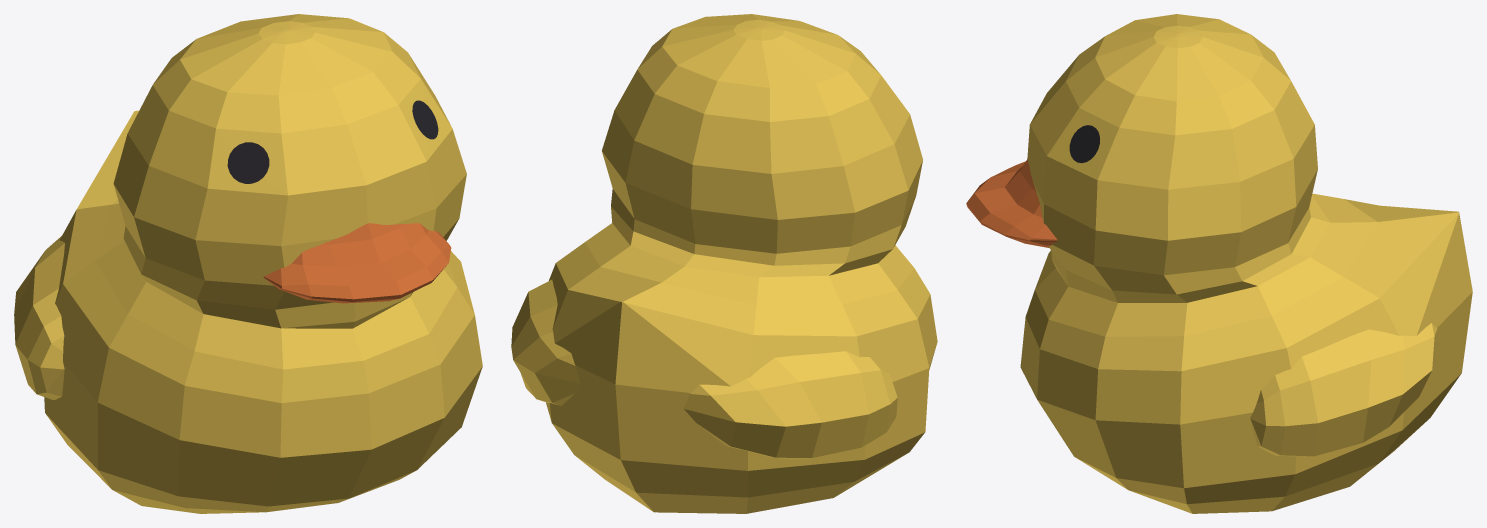
File: ContactDuck.glb
3 renders of one model, left to right at view 1: azimuth 30°, elevation 25°; view 2: azimuth 150°, elevation 25°; view 3: azimuth 270°, elevation 25°, orthographic. The views are drawn at different scales.
Visible parts, largest first — view 1: Rubber_duck; view 2: Rubber_duck; view 3: Rubber_duck.
Part boxes in pixels (left/top/right/bottom): Rubber_duck: left=14, top=14, right=482, bottom=513; Rubber_duck: left=511, top=14, right=937, bottom=513; Rubber_duck: left=966, top=14, right=1472, bottom=513.
Bounding box in the file's own units: 0.058 × 0.0615 × 0.0678.
Materials: 1 (1 with a texture image).
